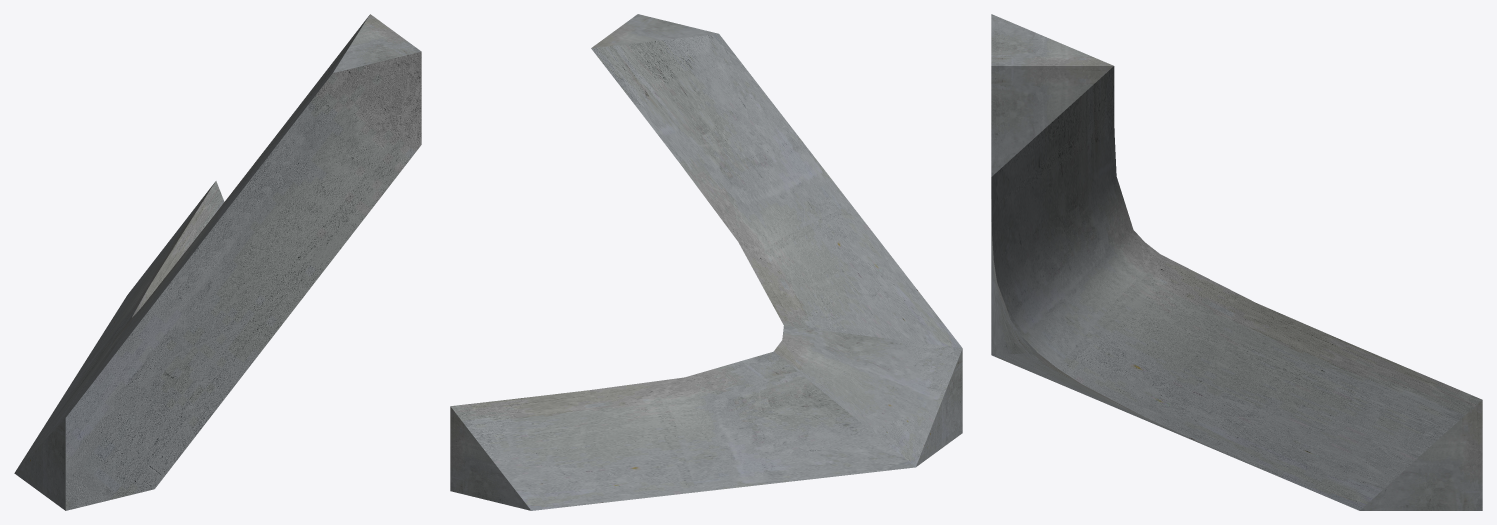
The model's file is module_K4.fbx.
The picture shows the model from 3 angles, left to right: view 1: azimuth 30°, elevation 25°; view 2: azimuth 150°, elevation 25°; view 3: azimuth 270°, elevation 25°; orthographic projection. The views are drawn at different scales.
Parts seen in each view (by area): view 1: modules; view 2: modules; view 3: modules.
Part boxes in pixels (x1=…): modules: x1=14, y1=14, x2=421, y2=510; modules: x1=450, y1=14, x2=962, y2=510; modules: x1=991, y1=14, x2=1482, y2=510.
Bounding box in the file's own units: 1000 × 1000 × 1000.
Materials: 1 (1 with a texture image).
